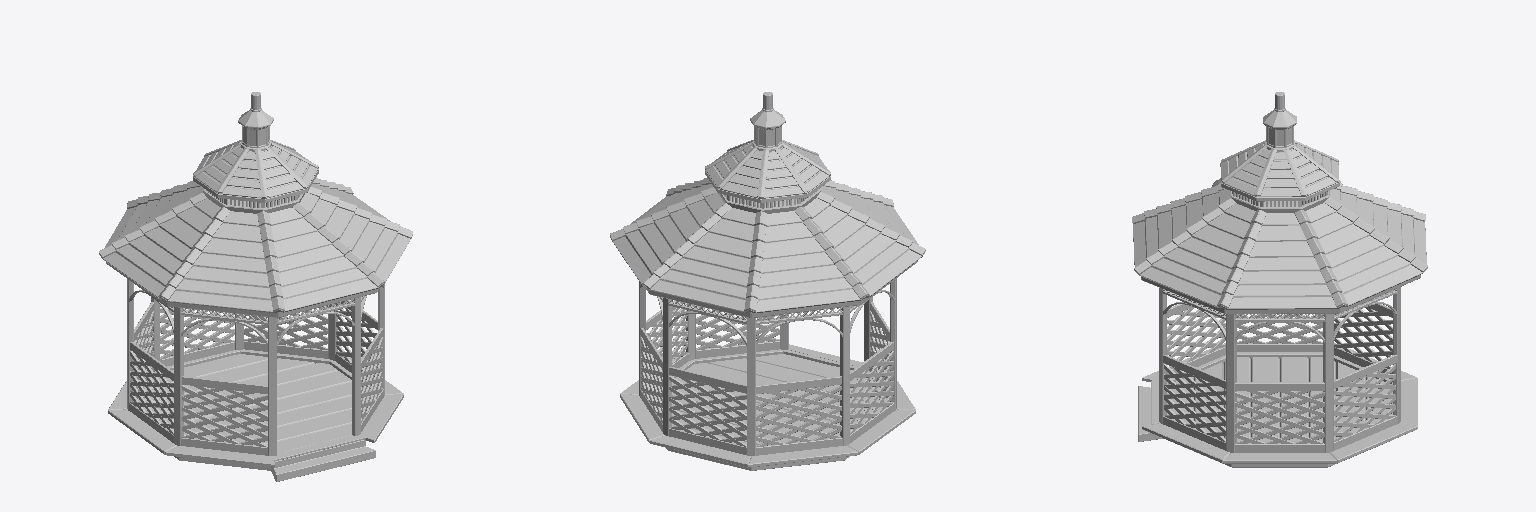
Rendered from kiosko.obj.
3 views of the same model, side by side, from view 1: azimuth 30°, elevation 25°; view 2: azimuth 150°, elevation 25°; view 3: azimuth 270°, elevation 25° (orthographic).
Visible parts, largest first — view 1: node_id35; view 2: node_id35; view 3: node_id35.
Boxes of the visible parts, x1=… form: node_id35: x1=99, y1=92, x2=412, y2=481; node_id35: x1=610, y1=92, x2=925, y2=470; node_id35: x1=1132, y1=92, x2=1427, y2=467.
Size of the model in its own units: 42.38 by 51.2 by 42.38.